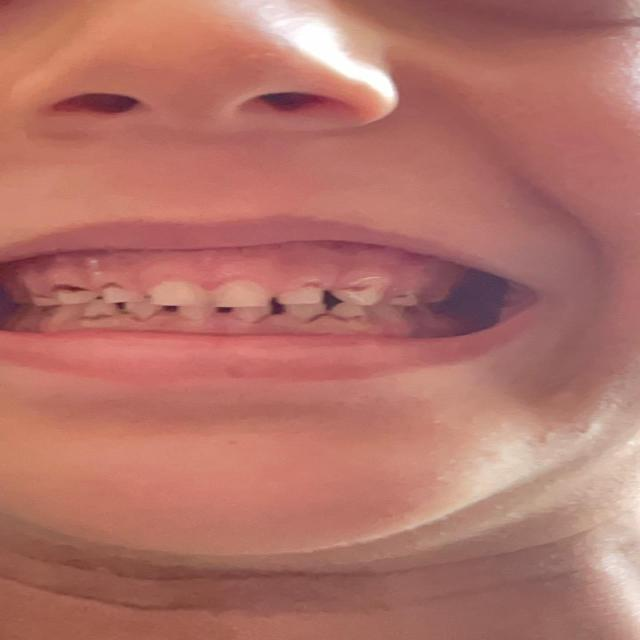tooth: (212, 285, 264, 307), (274, 288, 321, 306), (334, 286, 380, 304), (155, 288, 199, 303), (177, 306, 211, 321), (232, 307, 261, 324), (337, 306, 367, 322), (97, 284, 126, 300), (291, 307, 319, 321), (383, 293, 410, 307), (128, 302, 151, 316), (62, 289, 84, 303), (34, 295, 52, 305), (102, 305, 116, 315)
